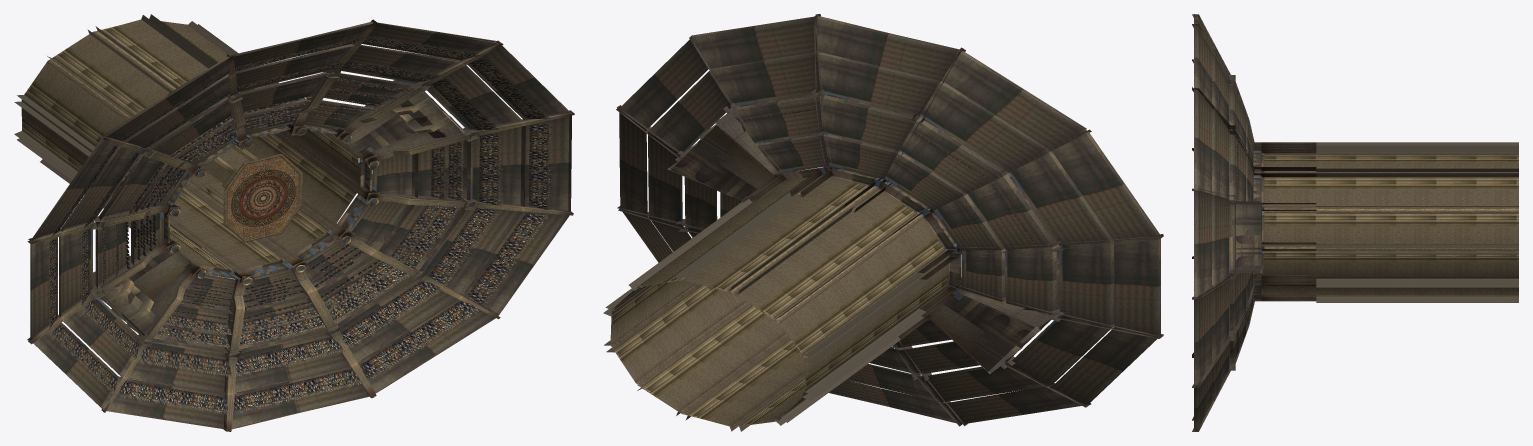
File: Coloseum.obj
The picture shows the model from 3 angles, left to right: view 1: azimuth 30°, elevation 25°; view 2: azimuth 150°, elevation 25°; view 3: azimuth 270°, elevation 25°; orthographic projection. The views are drawn at different scales.
Visible parts, largest first — view 1: vsn_mesh_7_polySurface1241.001, vsn_mesh_7_polySurface1241, vsn_mesh_3_flag2_01.001, vsn_mesh_4_pCube322.002, vsn_mesh_3_flag2_01, vsn_mesh_4_pCube322, vsn_mesh_8_polySurface1274, vsn_mesh_8_polySurface1274.001, vsn_mesh_5_polySurface1302, vsn_mesh_1_pCylinder86, vsn_mesh_0_pCube244, vsn_mesh_2_polySurface1307; view 2: vsn_mesh_7_polySurface1241, vsn_mesh_3_flag2_01, vsn_mesh_7_polySurface1241.001, vsn_mesh_8_polySurface1274, vsn_mesh_8_polySurface1274.001, vsn_mesh_3_flag2_01.001; view 3: vsn_mesh_8_polySurface1274.001, vsn_mesh_3_flag2_01.001, vsn_mesh_7_polySurface1241.001, vsn_mesh_3_flag2_01, vsn_mesh_7_polySurface1241, vsn_mesh_8_polySurface1274.
Part boxes in pixels (left/top/right/bottom): vsn_mesh_7_polySurface1241.001: left=101, top=20, right=574, bottom=431; vsn_mesh_7_polySurface1241: left=27, top=19, right=498, bottom=431; vsn_mesh_3_flag2_01.001: left=87, top=15, right=478, bottom=358; vsn_mesh_4_pCube322.002: left=119, top=36, right=553, bottom=413; vsn_mesh_3_flag2_01: left=14, top=14, right=416, bottom=358; vsn_mesh_4_pCube322: left=48, top=36, right=479, bottom=414; vsn_mesh_8_polySurface1274: left=21, top=25, right=330, bottom=285; vsn_mesh_8_polySurface1274.001: left=120, top=19, right=380, bottom=285; vsn_mesh_5_polySurface1302: left=126, top=95, right=382, bottom=320; vsn_mesh_1_pCylinder86: left=231, top=169, right=295, bottom=226; vsn_mesh_0_pCube244: left=196, top=145, right=302, bottom=242; vsn_mesh_2_polySurface1307: left=228, top=156, right=298, bottom=239; vsn_mesh_7_polySurface1241: left=692, top=14, right=1163, bottom=426; vsn_mesh_3_flag2_01: left=676, top=89, right=1064, bottom=431; vsn_mesh_7_polySurface1241.001: left=616, top=14, right=1086, bottom=426; vsn_mesh_8_polySurface1274: left=637, top=166, right=961, bottom=426; vsn_mesh_8_polySurface1274.001: left=610, top=166, right=891, bottom=427; vsn_mesh_3_flag2_01.001: left=603, top=90, right=1006, bottom=431; vsn_mesh_8_polySurface1274.001: left=1253, top=145, right=1518, bottom=301; vsn_mesh_3_flag2_01.001: left=1228, top=80, right=1518, bottom=370; vsn_mesh_7_polySurface1241.001: left=1192, top=14, right=1231, bottom=431; vsn_mesh_3_flag2_01: left=1228, top=75, right=1518, bottom=209; vsn_mesh_7_polySurface1241: left=1192, top=14, right=1230, bottom=420; vsn_mesh_8_polySurface1274: left=1253, top=142, right=1518, bottom=296.
Size of the model in its own units: 2254 by 1491 by 1319.
14 materials, 14 textured.
